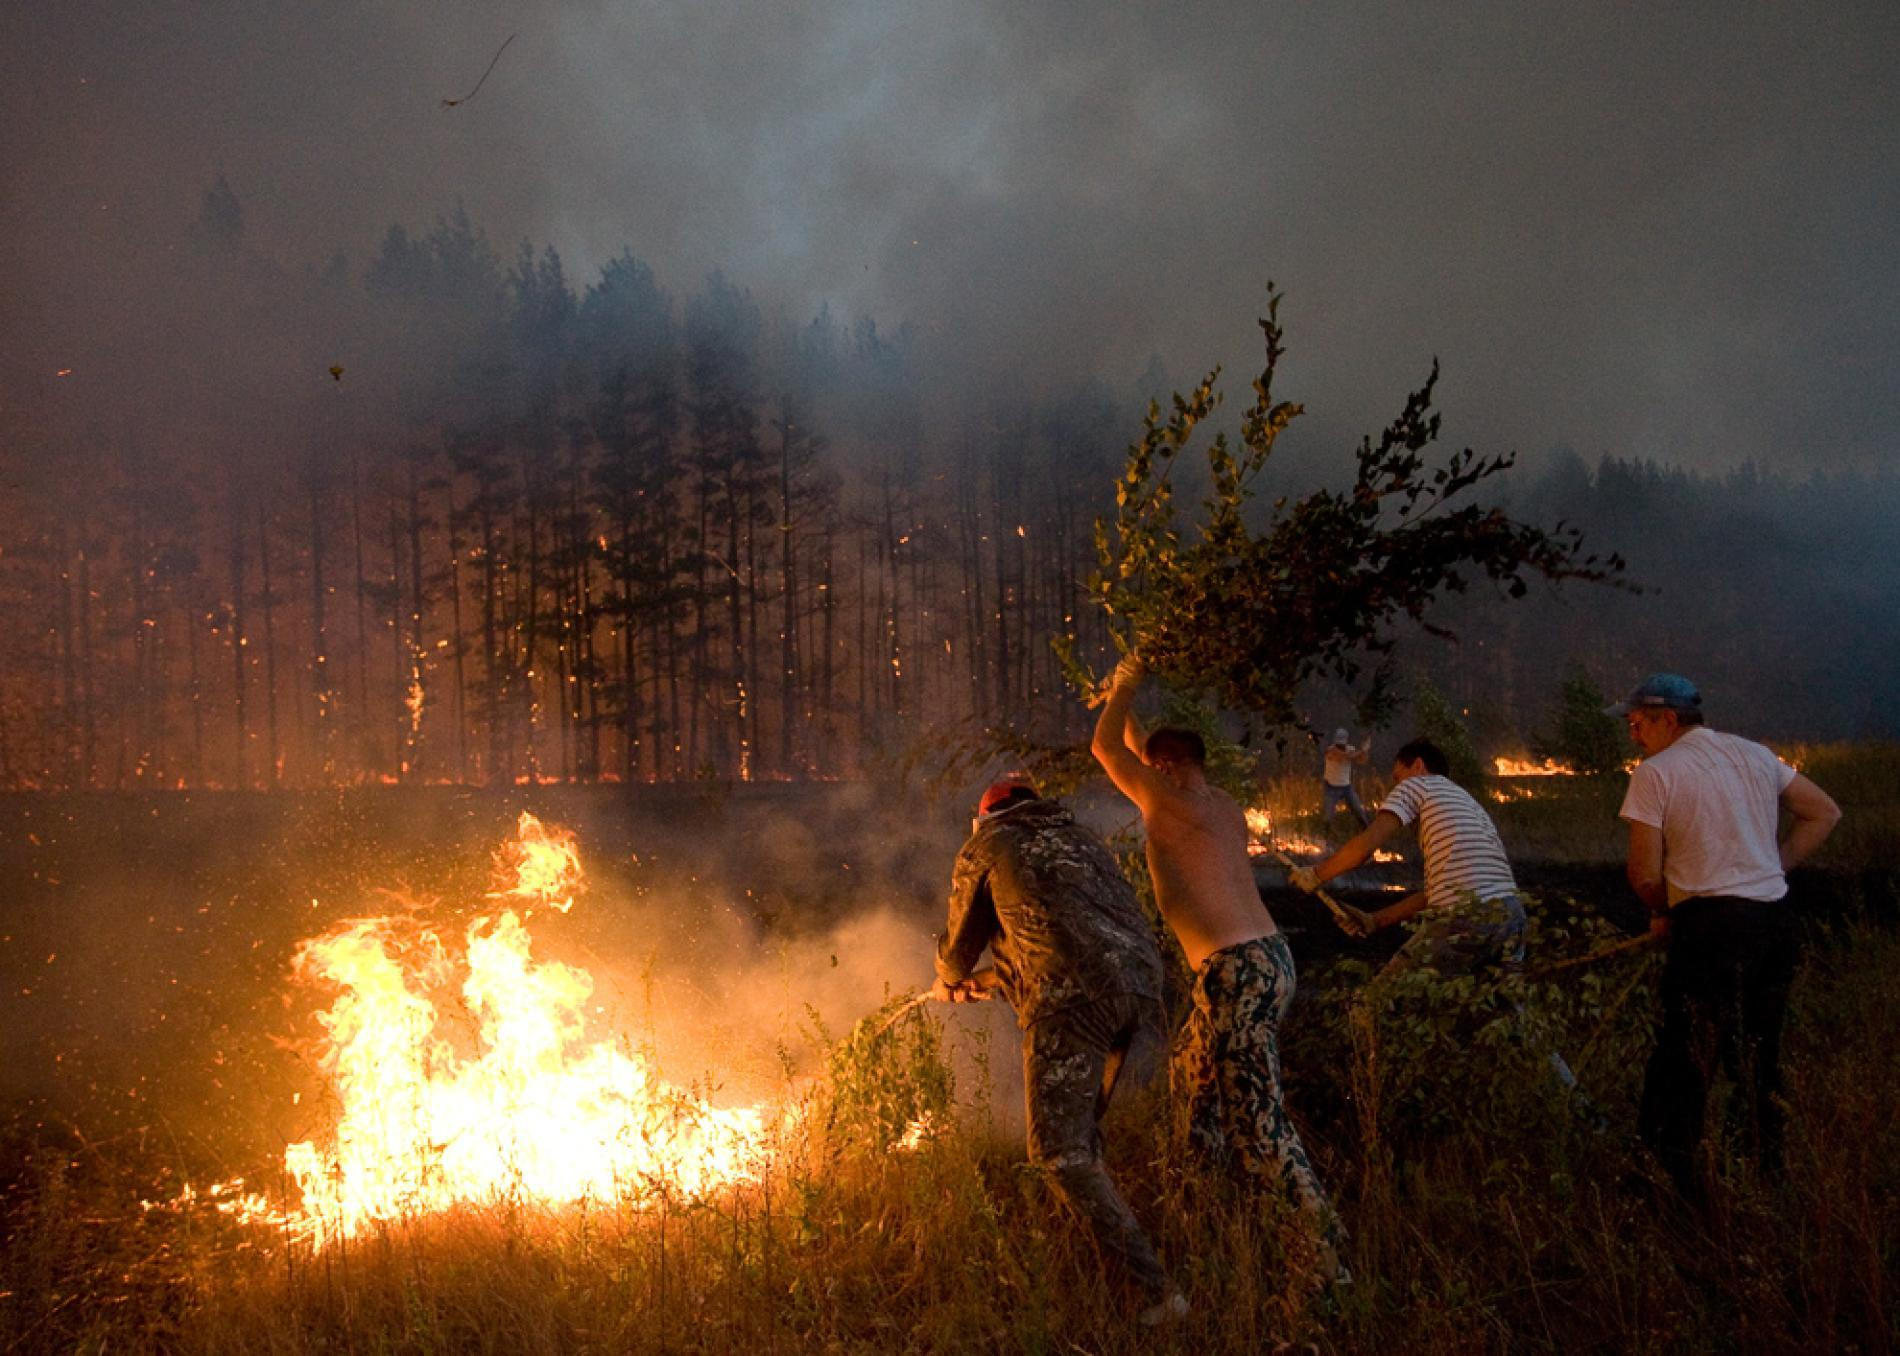Fire: (266, 801, 918, 1261)
